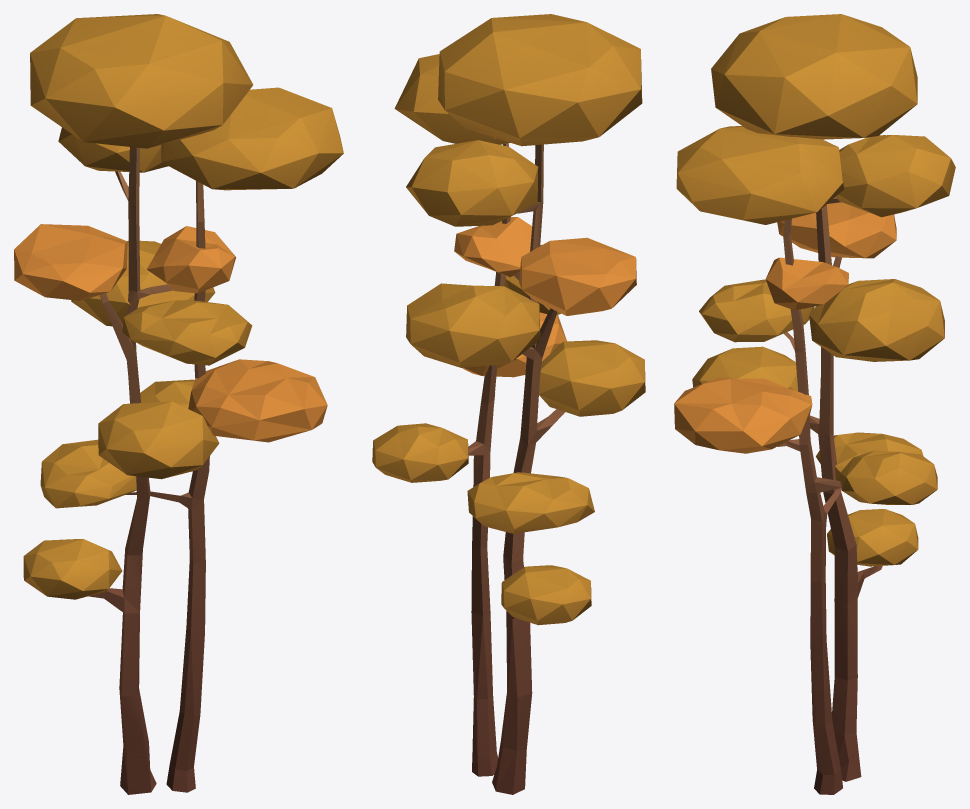
File: ZLP_Plant_F_12.FBX
3 views of the same model, side by side, from view 1: azimuth 30°, elevation 25°; view 2: azimuth 150°, elevation 25°; view 3: azimuth 270°, elevation 25° (orthographic). The views are drawn at different scales.
Parts seen in each view (by area): view 1: ZLP_Plant_F_12; view 2: ZLP_Plant_F_12; view 3: ZLP_Plant_F_12.
Part boxes in pixels (x1,y1,x2,y2): ZLP_Plant_F_12: (14,14,343,794); ZLP_Plant_F_12: (372,14,645,794); ZLP_Plant_F_12: (674,14,955,794).
Bounding box in the file's own units: 238 × 648 × 226.
